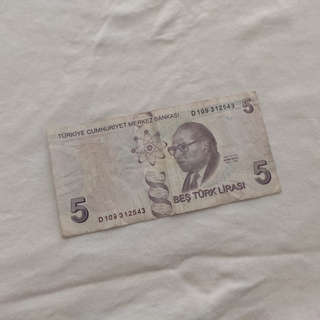5TLBack: (44, 89, 283, 238)
